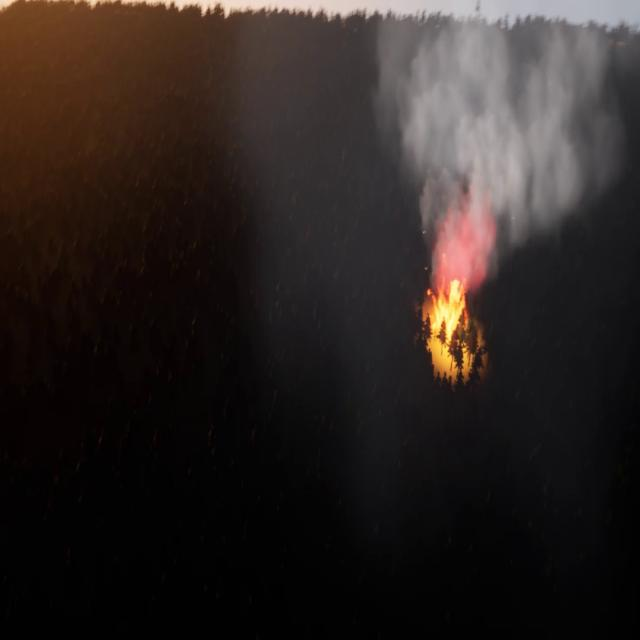fire: (432, 274, 470, 342)
smoke: (373, 0, 629, 279)
